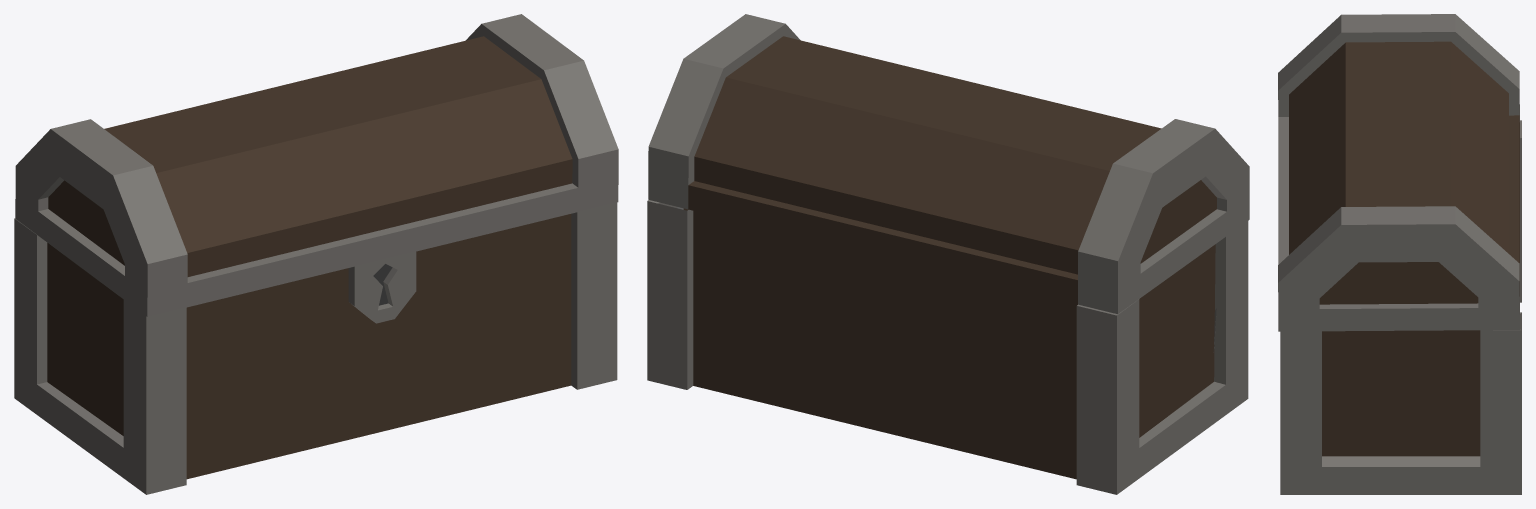
File: SilverChest.fbx
3 views of the same model, side by side, from view 1: azimuth 30°, elevation 25°; view 2: azimuth 150°, elevation 25°; view 3: azimuth 270°, elevation 25° (orthographic). The views are drawn at different scales.
Visible parts, largest first — view 1: Chest_UpperPart, Chest_LowerPart, Chest_Lock; view 2: Chest_UpperPart, Chest_LowerPart; view 3: Chest_UpperPart, Chest_LowerPart.
Part boxes in pixels (x1,y1,x2,y2): Chest_UpperPart: [15, 14, 618, 316]; Chest_LowerPart: [14, 202, 617, 494]; Chest_Lock: [348, 251, 416, 323]; Chest_UpperPart: [648, 14, 1249, 314]; Chest_LowerPart: [647, 200, 1248, 494]; Chest_UpperPart: [1278, 14, 1519, 331]; Chest_LowerPart: [1280, 120, 1521, 494].
Size of the model in its own units: 3.24 by 1.94 by 1.59.
